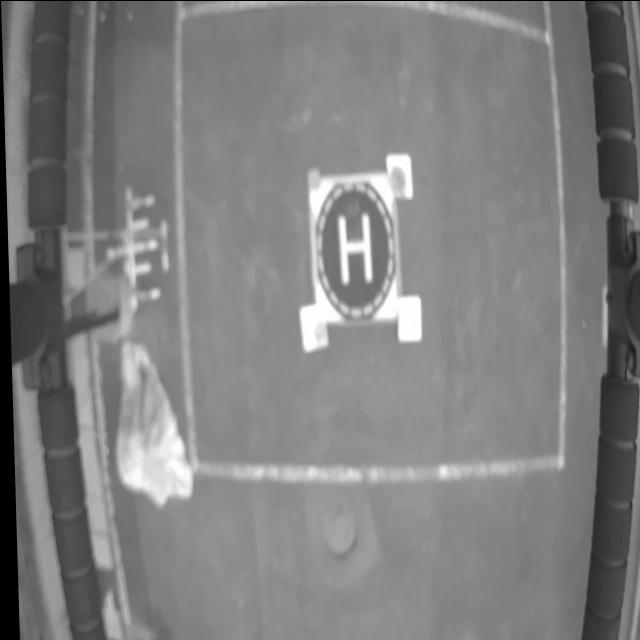Helipad: (334, 212, 370, 285)
